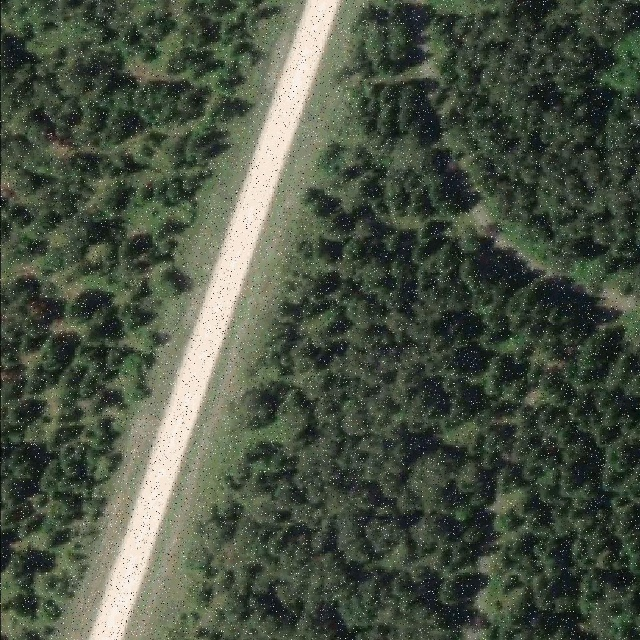vegetation: (161, 1, 639, 640), (0, 1, 286, 638)
